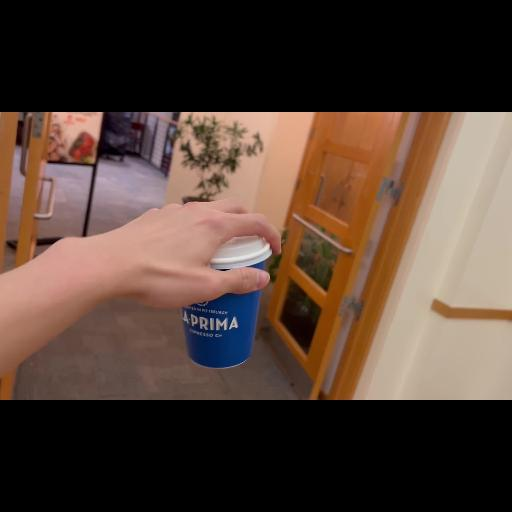lp_paper_cup: (166, 222, 282, 380)
